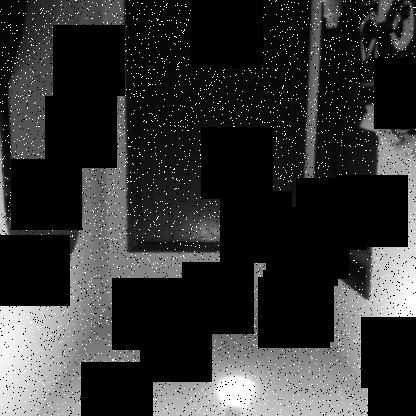Porte: (119, 1, 314, 254)
